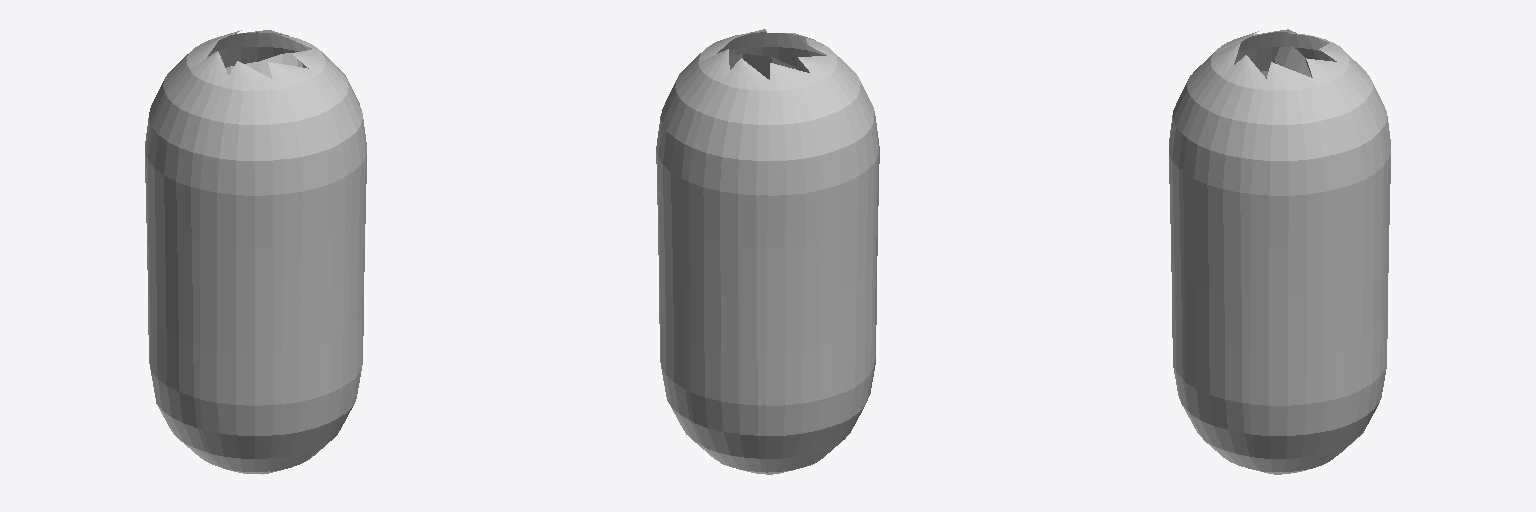
File: FlowerTopModel_03_seq_0012.obj
The picture shows the model from 3 angles: view 1: azimuth 30°, elevation 25°; view 2: azimuth 150°, elevation 25°; view 3: azimuth 270°, elevation 25°; orthographic projection.
Visible parts, largest first — view 1: FlowerTopModel_03; view 2: FlowerTopModel_03; view 3: FlowerTopModel_03.
Boxes of the visible parts, box(x1,y1,x2,y2) form: FlowerTopModel_03: box(145, 30, 366, 474); FlowerTopModel_03: box(656, 29, 879, 474); FlowerTopModel_03: box(1169, 29, 1390, 474).
Bounding box in the file's own units: 167 × 348 × 167.